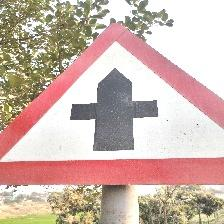Crossroad: (0, 13, 224, 192)
